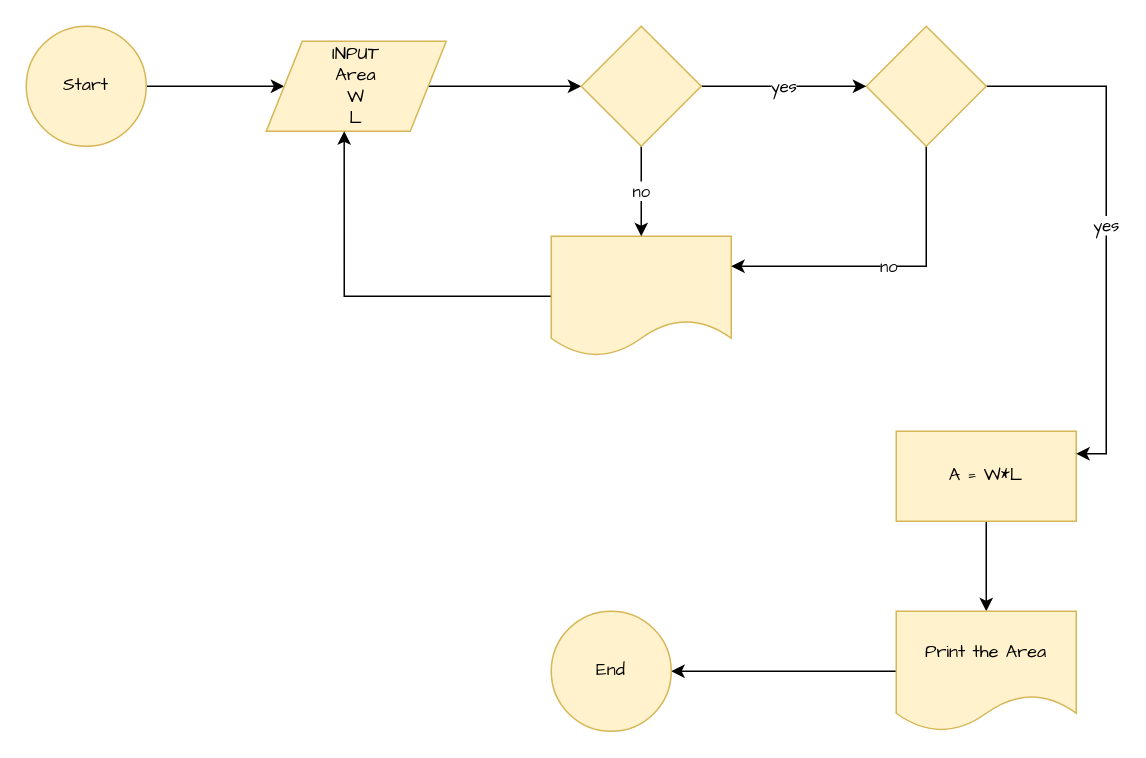
Some shapes in this 1146 by 758 pixel diagram are drawn without their labels. Here are the shapes that lost their labels. From the top down, the centre of each, then its label:
At point (640, 85): "Is INPUT number".
At point (925, 85): "Is INPUT>0".
At point (640, 295): "Try again buddy !".
